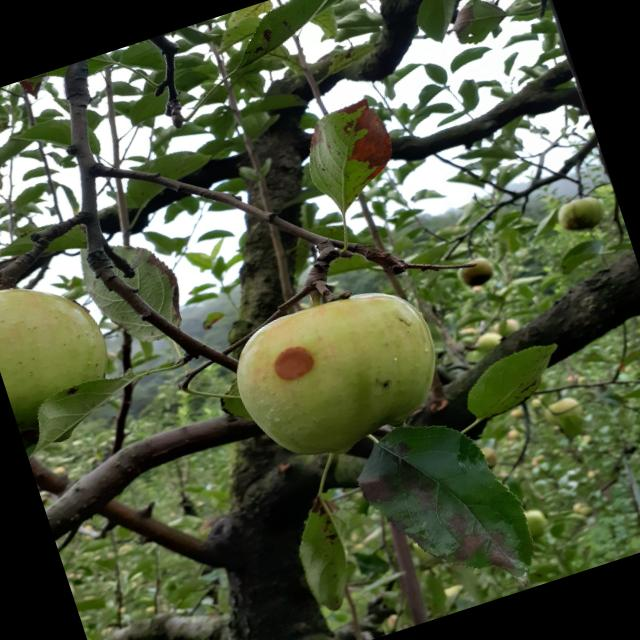rotten: (216, 264, 472, 488)
